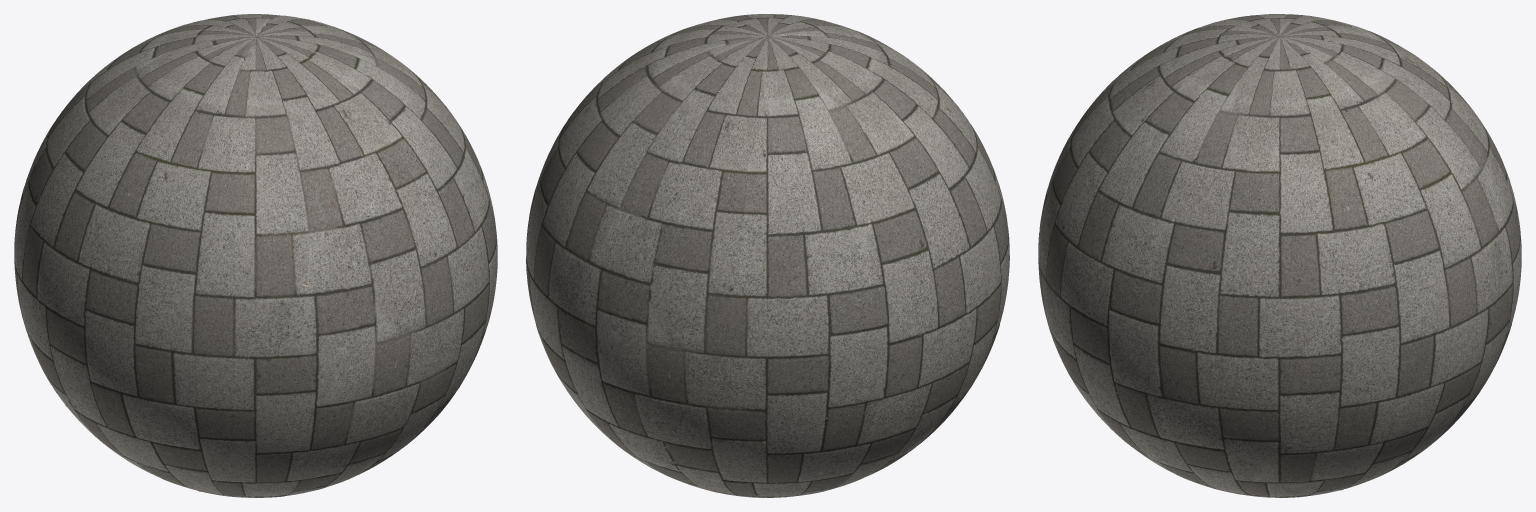
Rendered from patterned_brick_floor_1k.gltf.
3 renders of one model, left to right at view 1: azimuth 30°, elevation 25°; view 2: azimuth 150°, elevation 25°; view 3: azimuth 270°, elevation 25°, orthographic.
Parts seen in each view (by area): view 1: sphere_gltf; view 2: sphere_gltf; view 3: sphere_gltf.
Part boxes in pixels (<box>): sphere_gltf: <box>14,14,497,497</box>; sphere_gltf: <box>526,14,1009,497</box>; sphere_gltf: <box>1038,14,1521,497</box>.
Bounding box in the file's own units: 1.82 × 1.82 × 1.82.
Materials: 1 (1 with a texture image).
